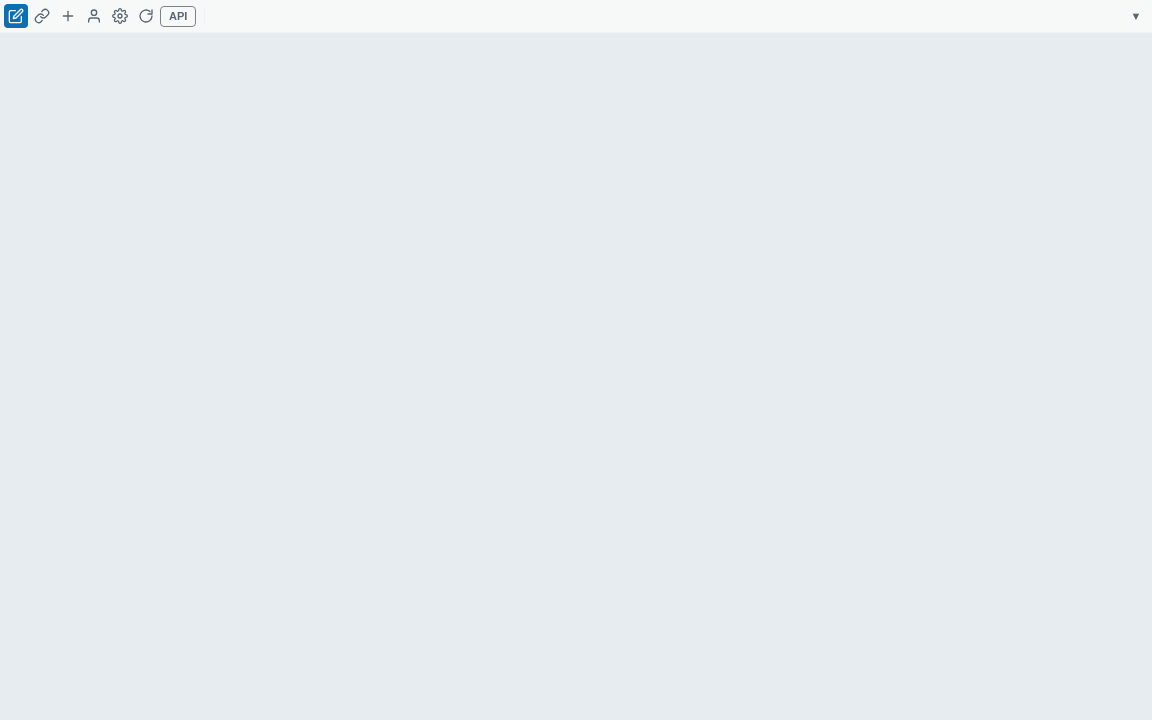
Scenario: App (Linux向け動画再生設定の配線) › ハードウェアデコード設定を切り替えて適用した後も再起動までは再起動の案内が表示され続ける
This screenshot has width=1152, height=720.
Click the button titled "アプリ設定 (Ctrl+,)".
click(120, 16)  # box [108,4,132,28]
(page scrolled)
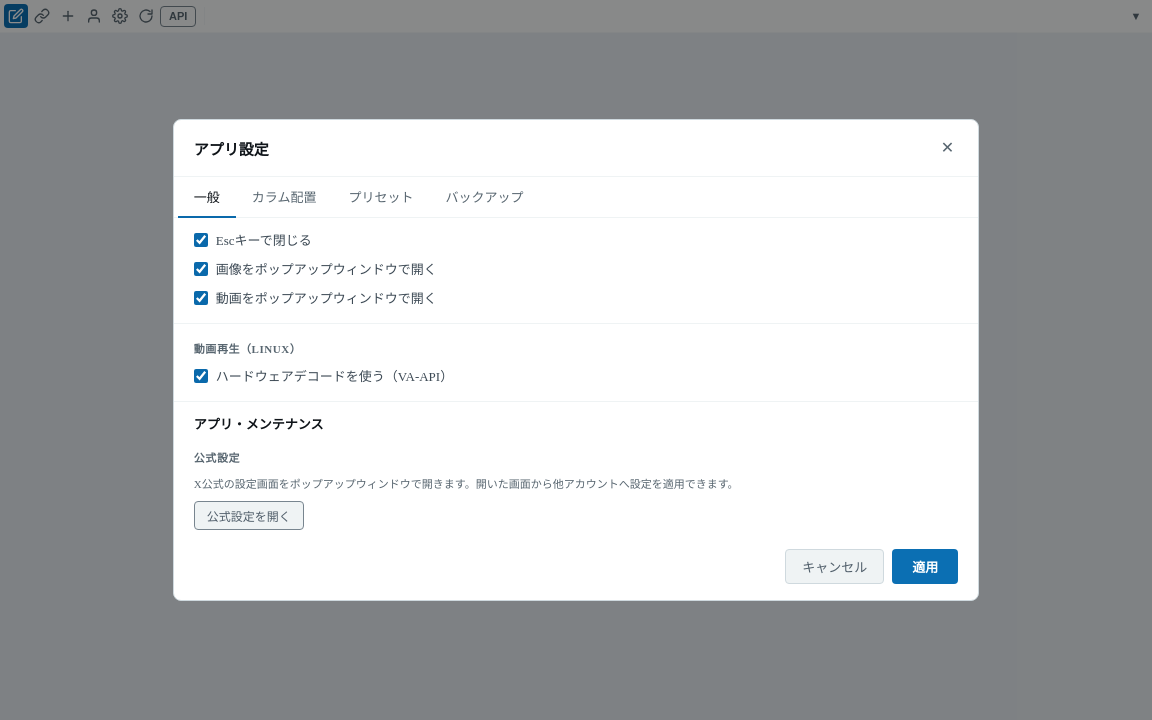
Expected: the text "再起動後に反映されます" is not shown
Click the checkbox labelled "ハードウェアデコードを使う（VA-API）".
click(201, 376)  # box [194,369,208,383]
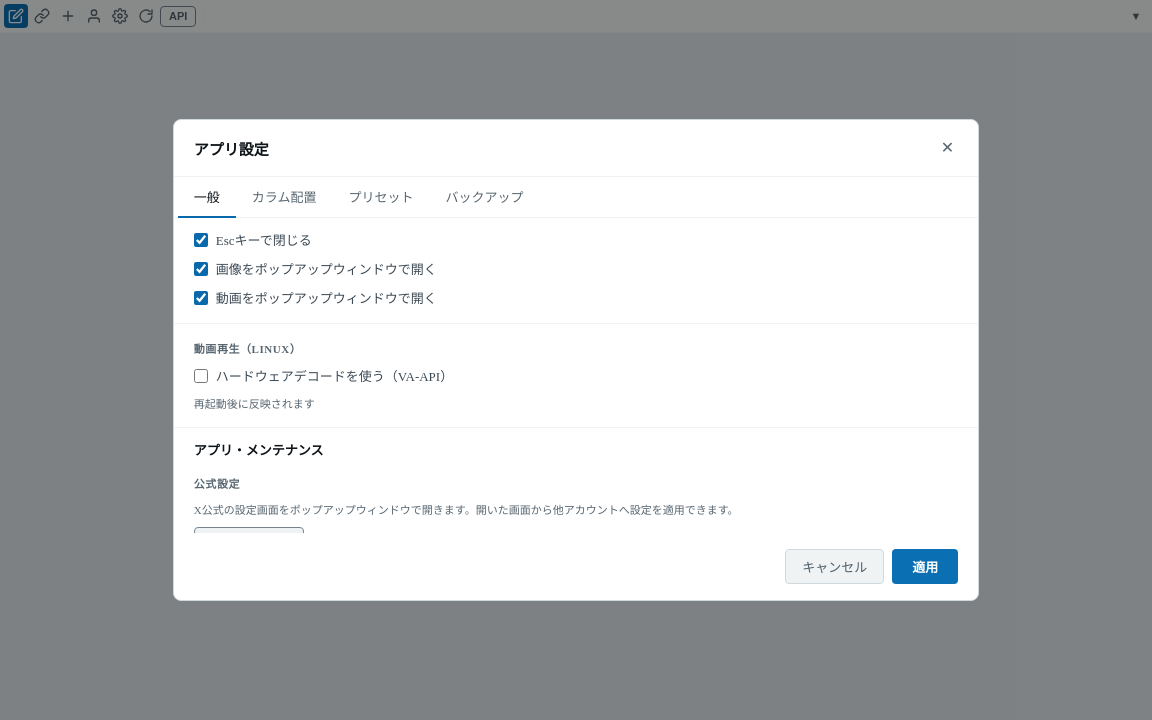
Now the text "再起動後に反映されます" is shown, box [194,398,315,410]
Click the button "適用".
click(925, 566)  # box [892,549,958,584]
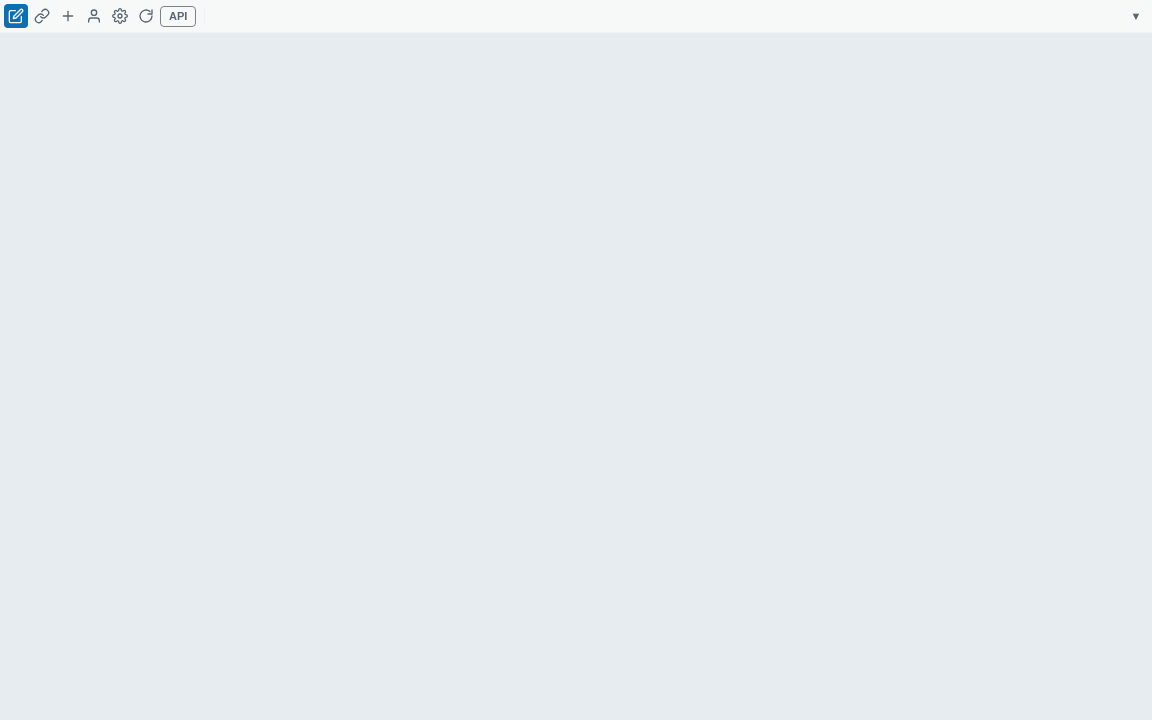
Click the button titled "アプリ設定 (Ctrl+,)".
click(120, 16)  # box [108,4,132,28]
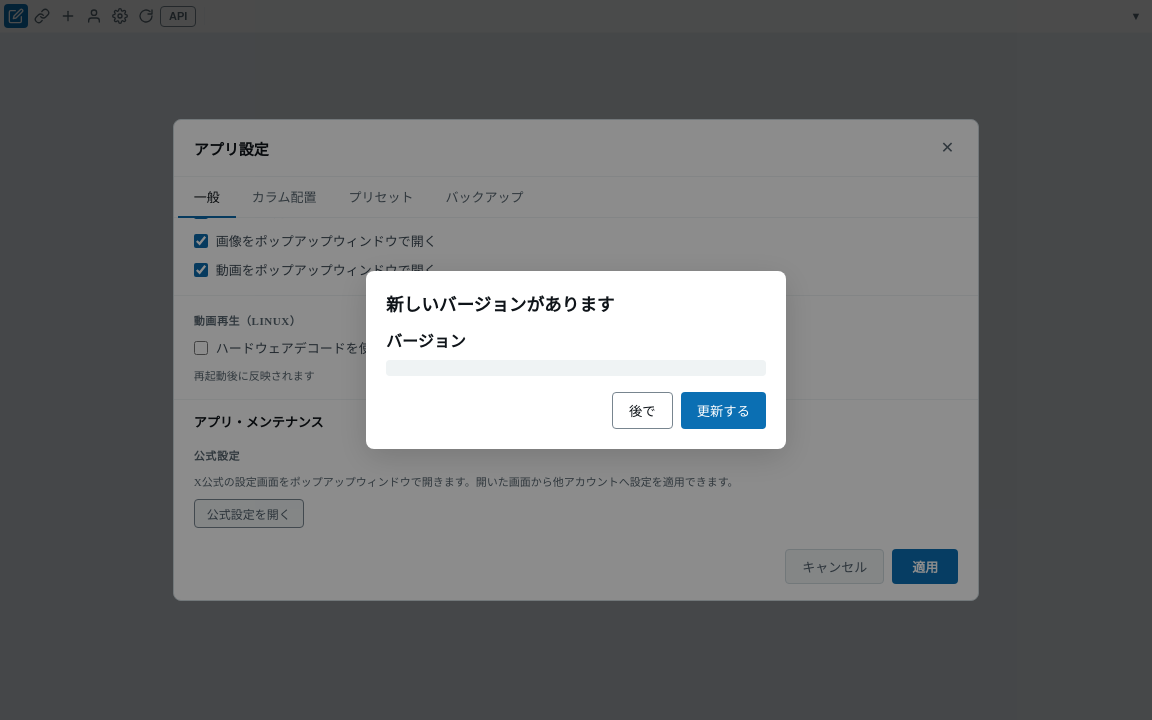
Now the checkbox labelled "ハードウェアデコードを使う（VA-API）" is not checked, box [194,341,208,355]
Now the text "再起動後に反映されます" is shown, box [194,370,315,382]
